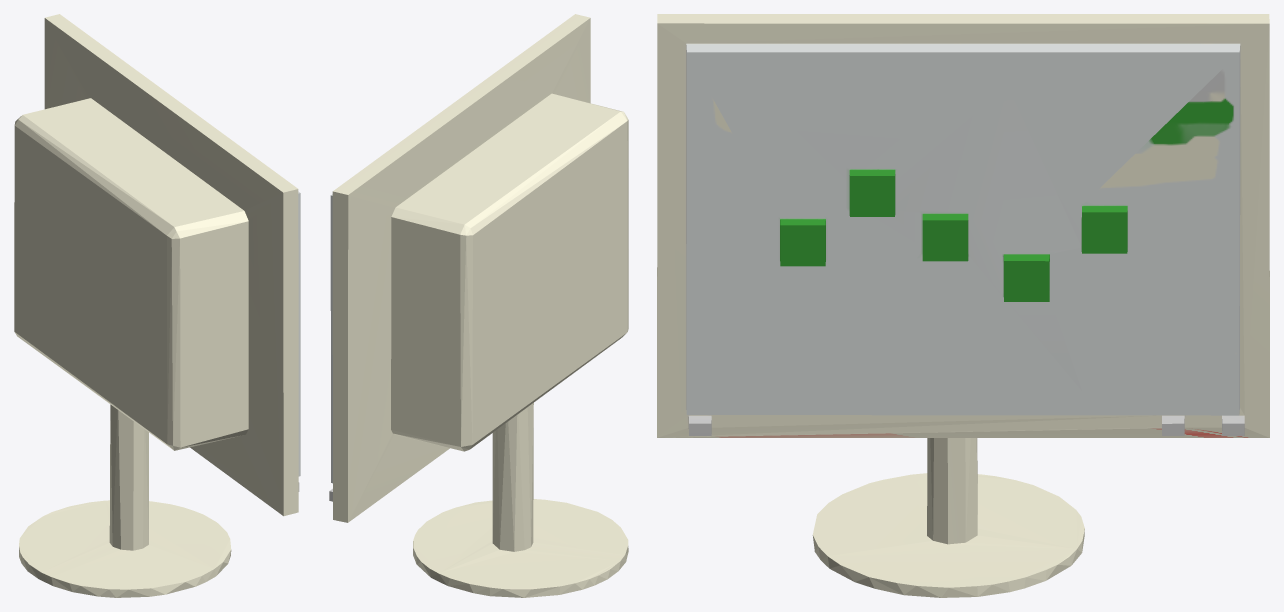
The model's file is monitor.glb.
3 renders of one model, left to right at view 1: azimuth 30°, elevation 25°; view 2: azimuth 150°, elevation 25°; view 3: azimuth 270°, elevation 25°, orthographic. The views are drawn at different scales.
Visible parts, largest first — view 1: 283473_23_05_27_07_39_30_0; view 2: 283473_23_05_27_07_39_30_0; view 3: 283473_23_05_27_07_39_30_0.
Boxes of the visible parts, left/top/right/bottom form: 283473_23_05_27_07_39_30_0: left=14, top=14, right=300, bottom=597; 283473_23_05_27_07_39_30_0: left=329, top=14, right=628, bottom=597; 283473_23_05_27_07_39_30_0: left=657, top=14, right=1269, bottom=597.
Bounding box in the file's own units: 2.38 × 5.34 × 5.35.
Materials: 1 (1 with a texture image).
